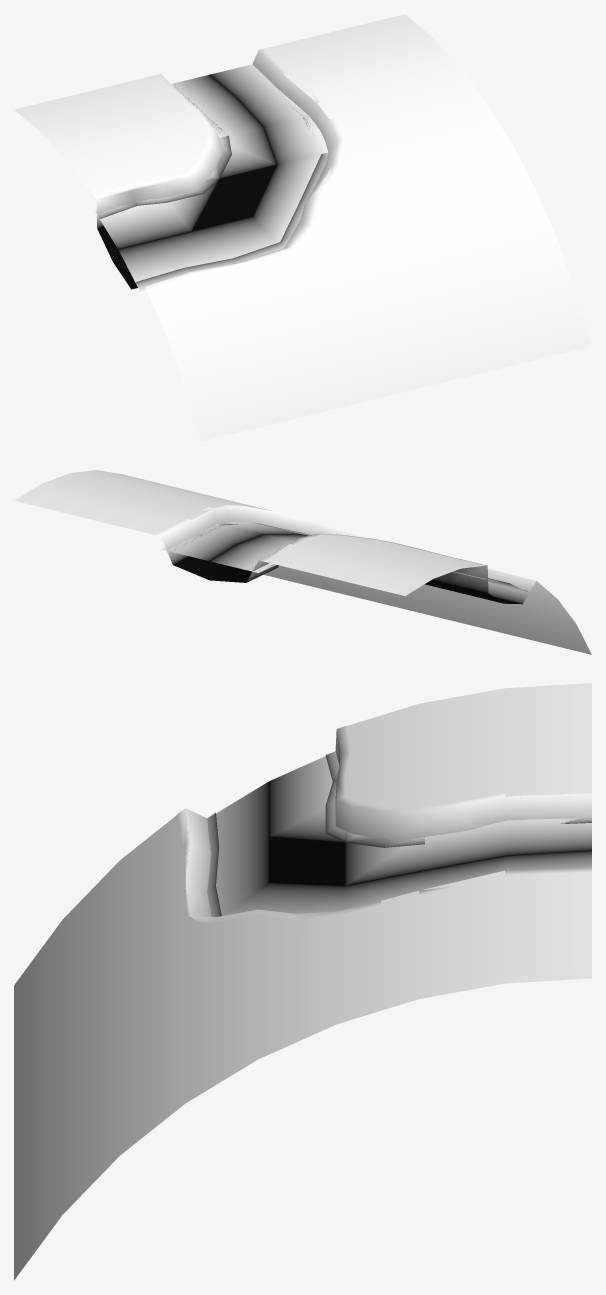
File: grd_Rsw_0.dae
The picture shows the model from 3 angles, top to bottom: view 1: azimuth 30°, elevation 25°; view 2: azimuth 150°, elevation 25°; view 3: azimuth 270°, elevation 25°; orthographic projection. The views are drawn at different scales.
Visible parts, largest first — view 1: grass_1_0, river_2_0, cliff_river_0_0, river_edge_3_0; view 2: grass_1_0, cliff_river_0_0, river_2_0, river_edge_3_0; view 3: grass_1_0, river_2_0, cliff_river_0_0, river_edge_3_0.
Part boxes in pixels (x1,y1,x2,y2): grass_1_0: [14, 14, 591, 441]; river_2_0: [94, 64, 328, 292]; cliff_river_0_0: [93, 48, 343, 292]; river_edge_3_0: [94, 68, 328, 293]; grass_1_0: [14, 470, 591, 654]; cliff_river_0_0: [155, 504, 538, 604]; river_2_0: [161, 522, 531, 593]; river_edge_3_0: [162, 522, 530, 593]; grass_1_0: [14, 683, 591, 1280]; river_2_0: [208, 752, 591, 916]; cliff_river_0_0: [177, 725, 591, 924]; river_edge_3_0: [207, 751, 591, 916].
Size of the model in its own units: 512 by 244 by 423.
Materials: 4 (1 with a texture image).
